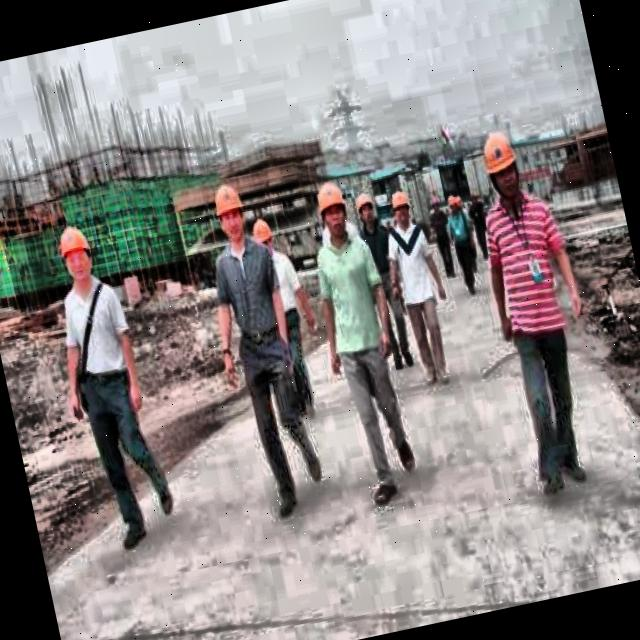helmet: (476, 123, 527, 204), (206, 173, 254, 250), (52, 215, 101, 287), (308, 173, 356, 246), (248, 208, 282, 266), (380, 182, 414, 234), (350, 186, 380, 234)
